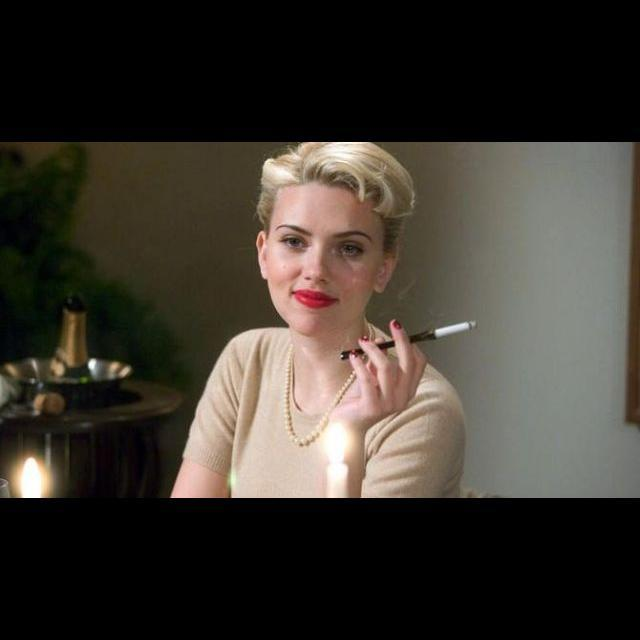rokok: (432, 319, 481, 341)
